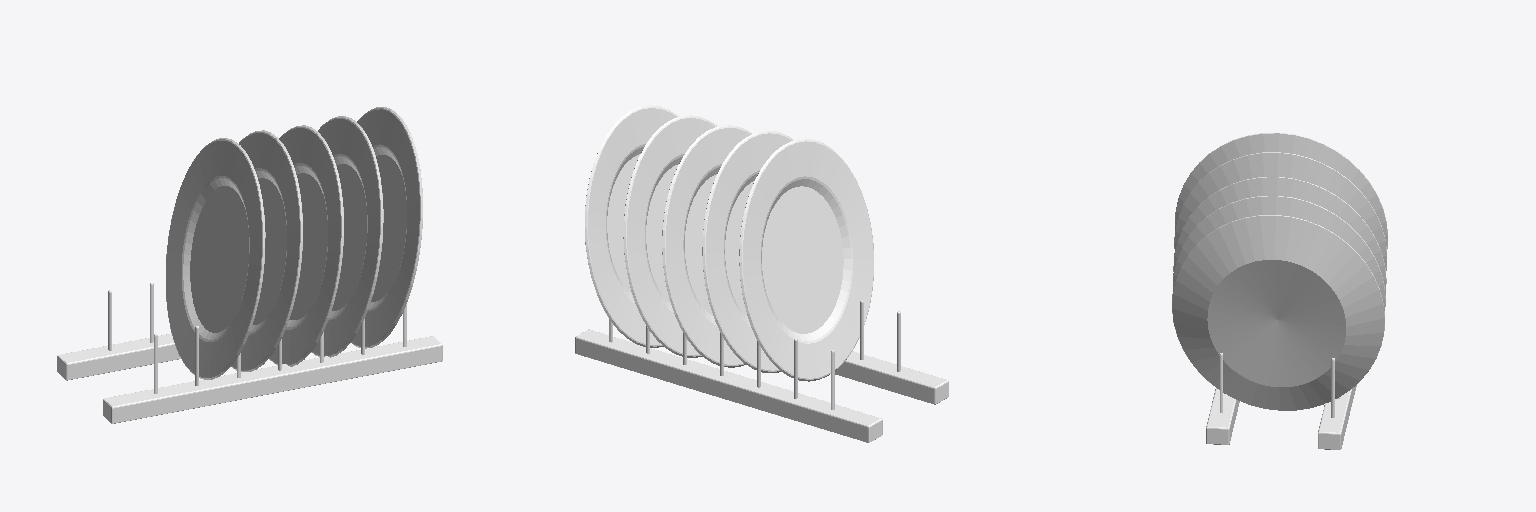
3 views of the same model, side by side, from view 1: azimuth 30°, elevation 25°; view 2: azimuth 150°, elevation 25°; view 3: azimuth 270°, elevation 25° (orthographic).
Visible parts, largest first — view 1: aws_Tableware_01_visualMesh; view 2: aws_Tableware_01_visualMesh; view 3: aws_Tableware_01_visualMesh.
Part boxes in pixels (x1,y1,x2,y2): aws_Tableware_01_visualMesh: (57,107,442,423); aws_Tableware_01_visualMesh: (575,105,948,442); aws_Tableware_01_visualMesh: (1172,133,1387,449).
Size of the model in its own units: 0.3461 by 0.2345 by 0.1995.